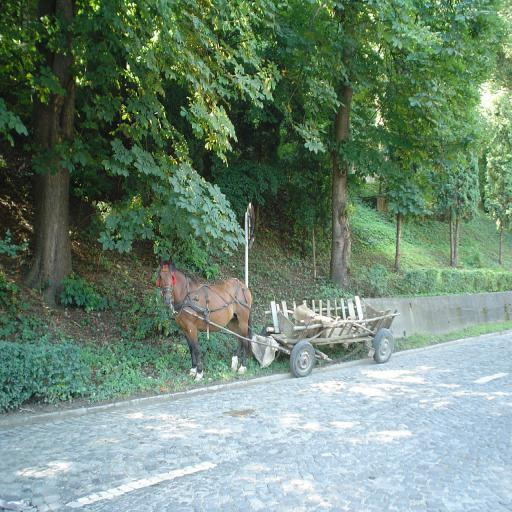horse: (158, 254, 252, 381)
